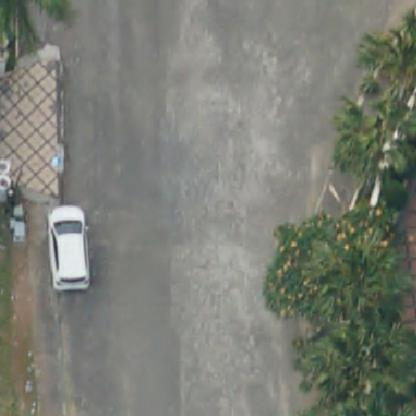car: (43, 204, 93, 295)
